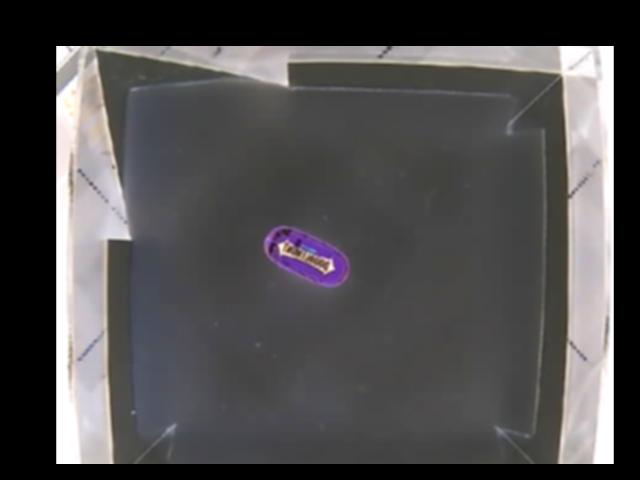Bottle: (264, 226, 350, 288)
